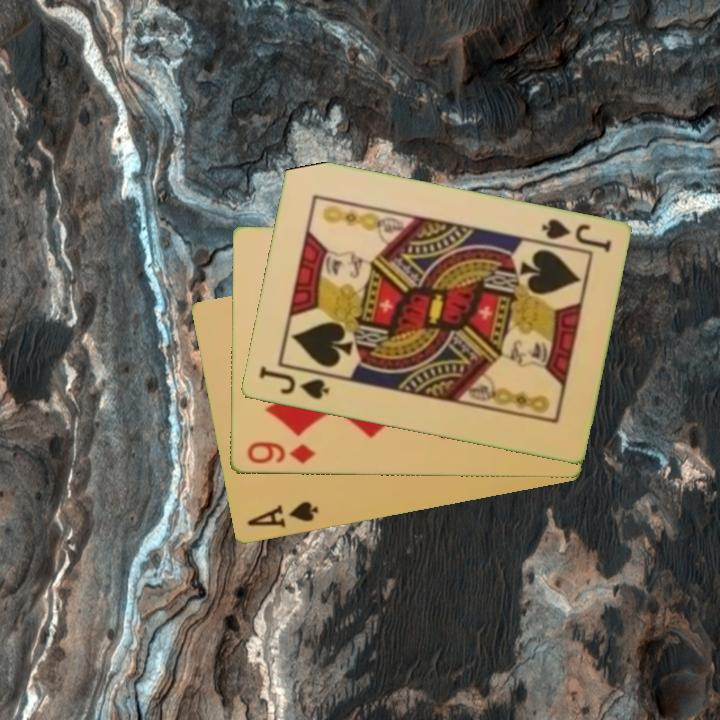9d: (244, 439, 318, 467)
As: (243, 498, 321, 531)
Js: (537, 215, 614, 256), (255, 363, 332, 403)
